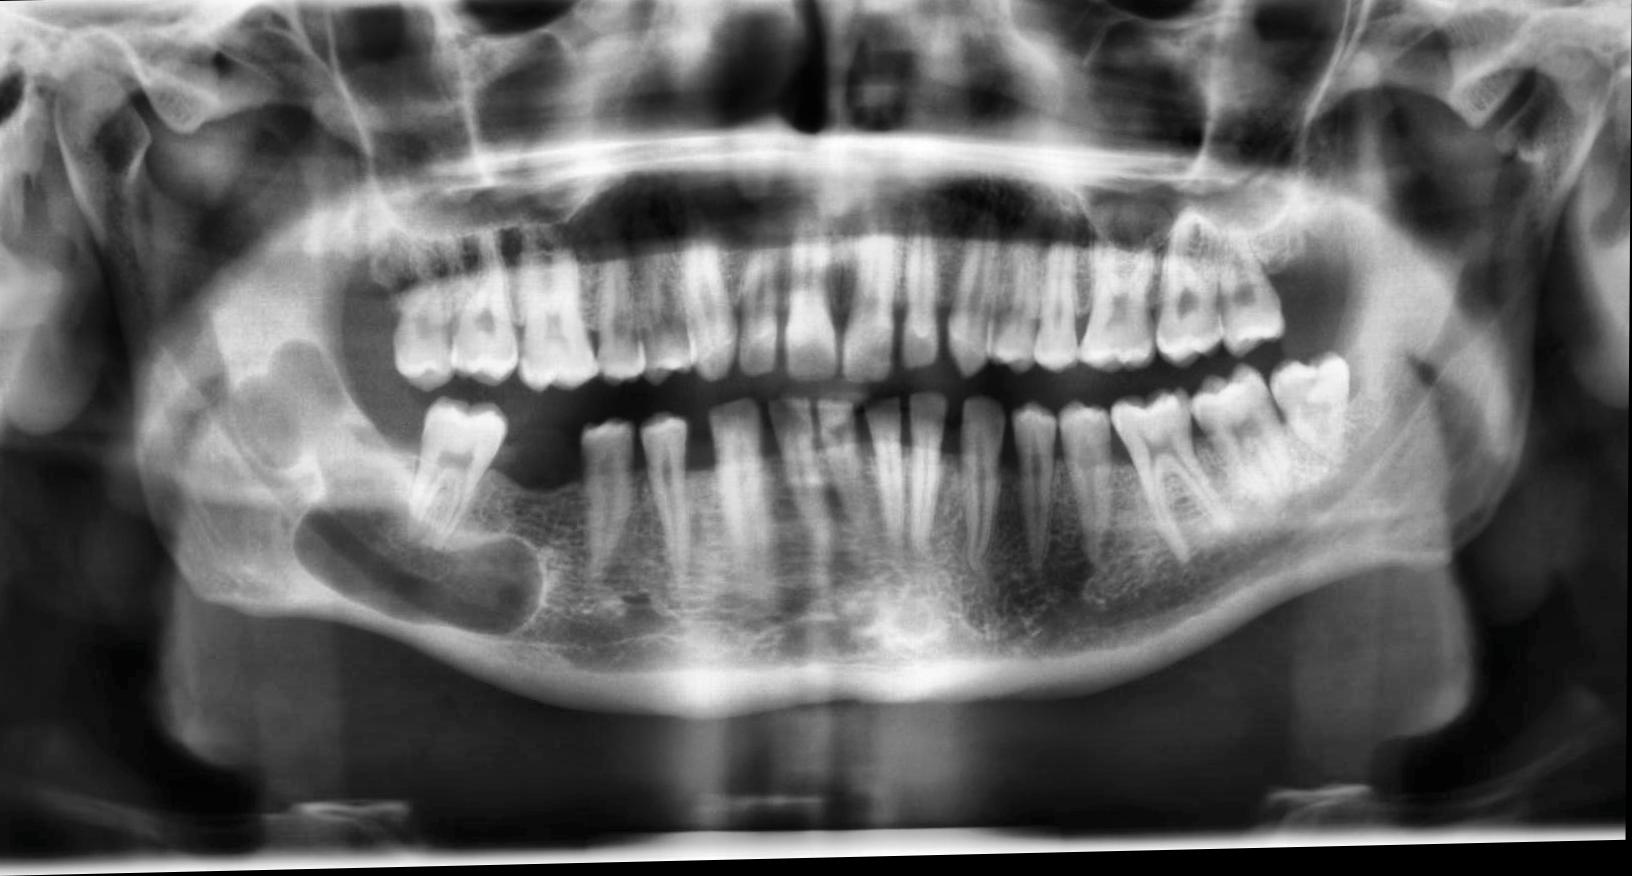keratokist: (227, 335, 548, 645)
